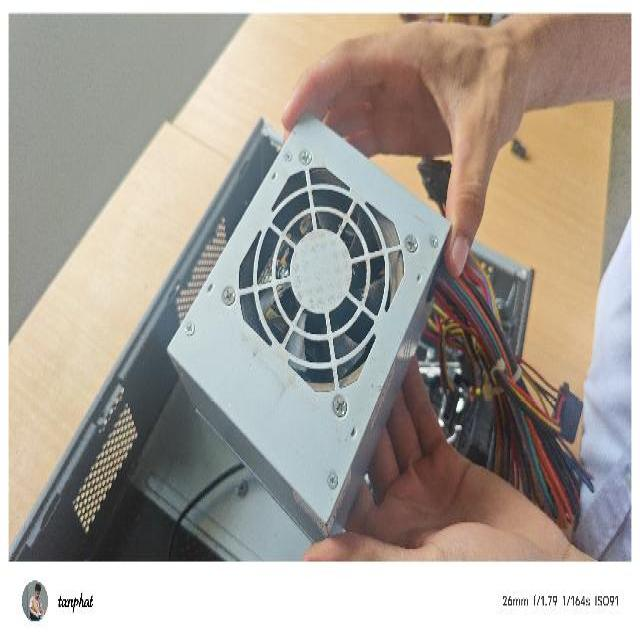PSU: (165, 108, 457, 546)
